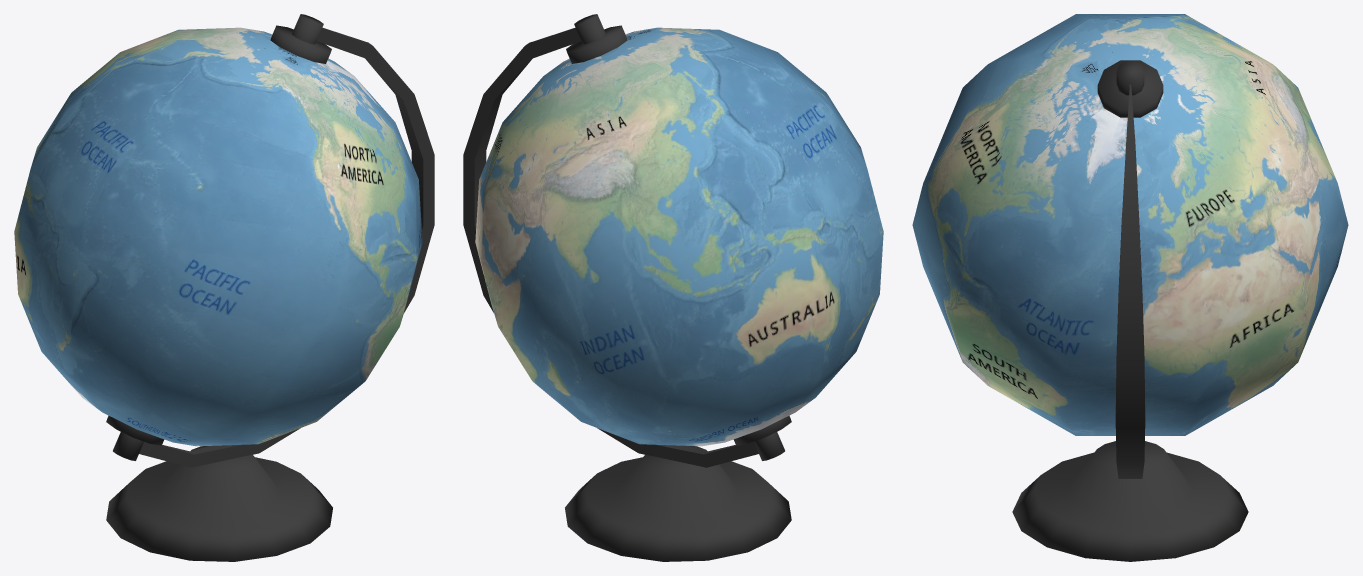
File: Globe.fbx
The picture shows the model from 3 angles, left to right: view 1: azimuth 30°, elevation 25°; view 2: azimuth 150°, elevation 25°; view 3: azimuth 270°, elevation 25°; orthographic projection. The views are drawn at different scales.
Visible parts, largest first — view 1: Sphere; view 2: Sphere; view 3: Sphere.
Part boxes in pixels (x1,y1,x2,y2): Sphere: (14,14,434,561); Sphere: (463,14,883,561); Sphere: (912,14,1348,561).
Size of the model in its own units: 23.19 by 27.5 by 22.06.
